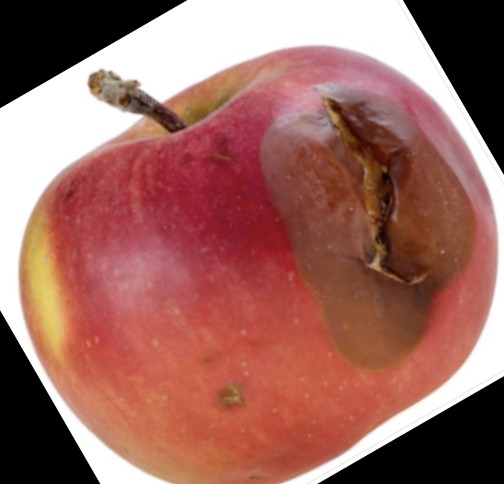rotten_apple: (19, 45, 498, 484)
